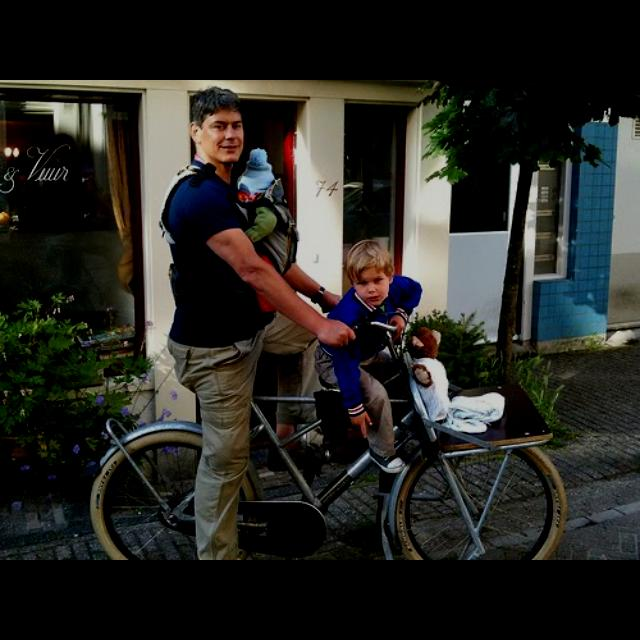Without Helmet: (183, 80, 259, 178)
